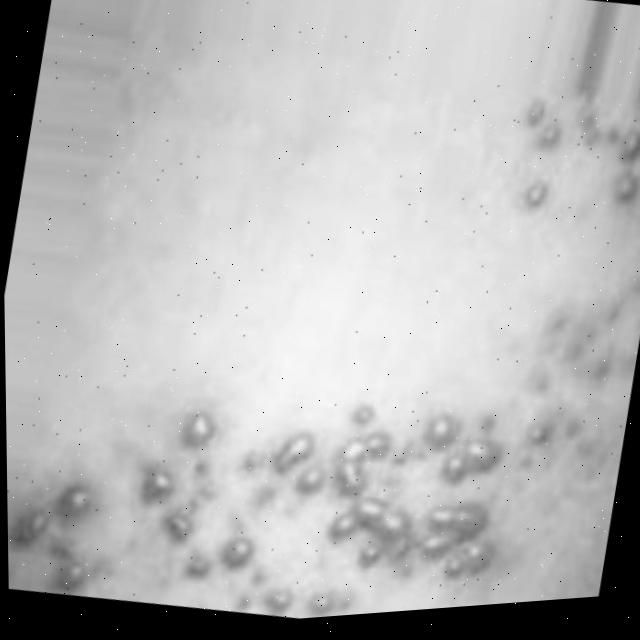Shingles: (5, 306, 602, 640), (501, 81, 640, 247)
